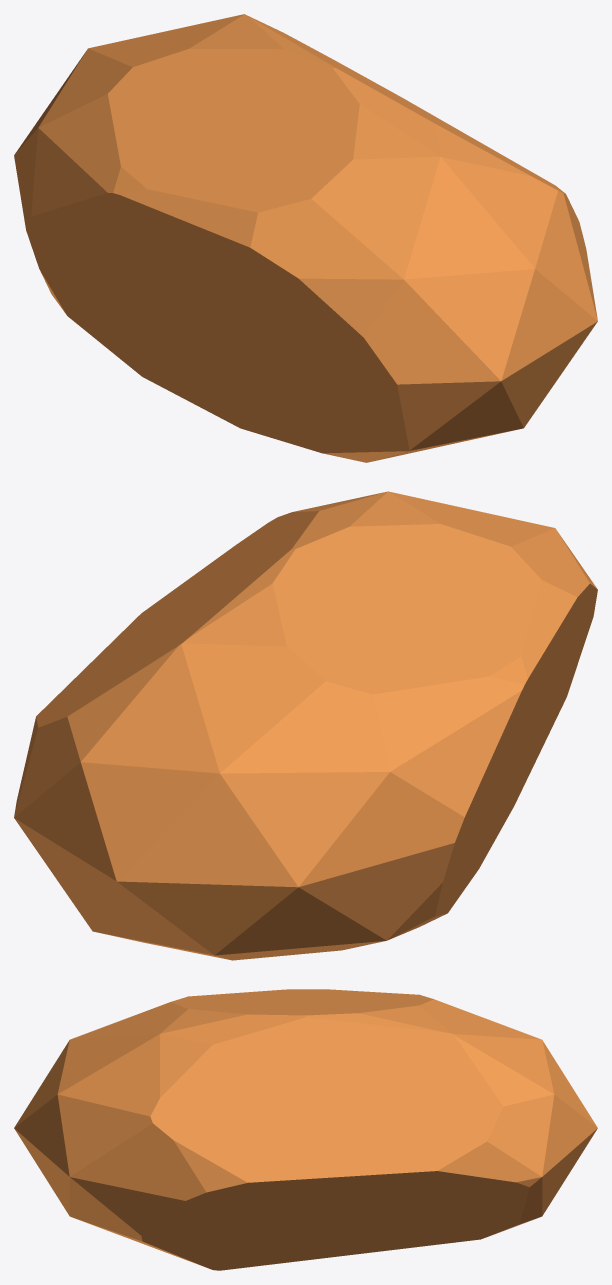
The model's file is Rock.fbx.
3 views of the same model, one above another, from view 1: azimuth 30°, elevation 25°; view 2: azimuth 150°, elevation 25°; view 3: azimuth 270°, elevation 25° (orthographic). The views are drawn at different scales.
Parts seen in each view (by area): view 1: Icosphere; view 2: Icosphere; view 3: Icosphere.
Part boxes in pixels (x1=…): Icosphere: x1=14, y1=14, x2=597, y2=462; Icosphere: x1=14, y1=491, x2=597, y2=960; Icosphere: x1=14, y1=989, x2=597, y2=1270.
Size of the model in its own units: 0.4278 by 0.6979 by 0.3058.
